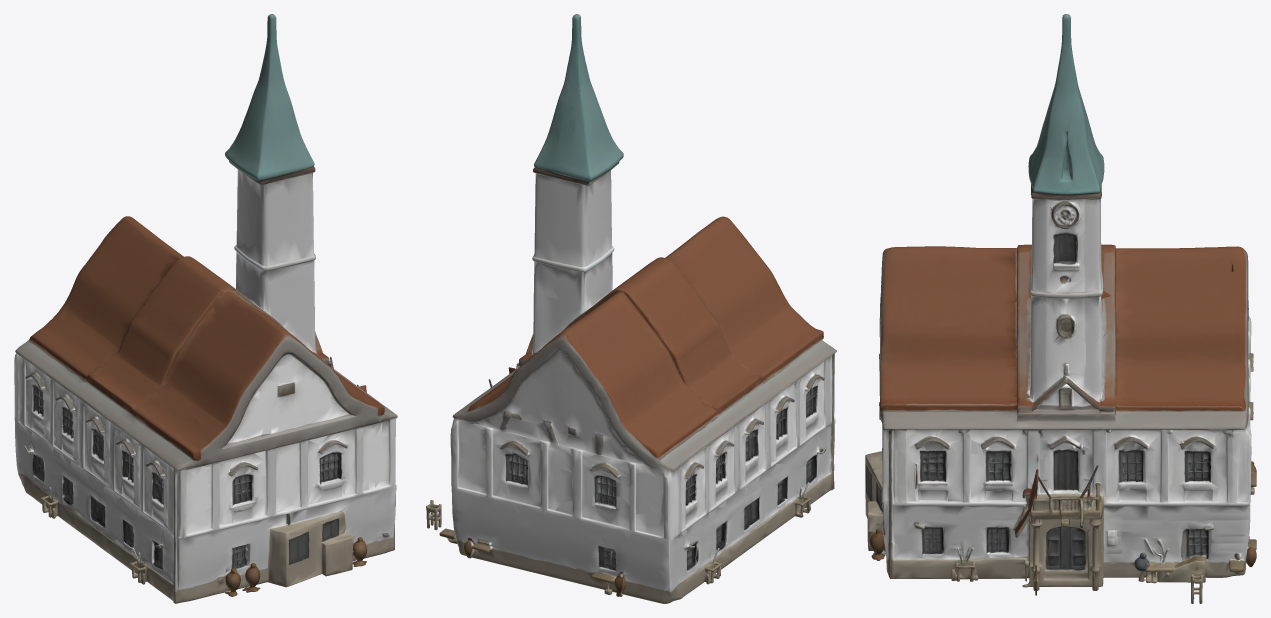
Rendered from vjecnica_60k.glb.
3 views of the same model, side by side, from view 1: azimuth 30°, elevation 25°; view 2: azimuth 150°, elevation 25°; view 3: azimuth 270°, elevation 25° (orthographic). The views are drawn at different scales.
Visible parts, largest first — view 1: Mesh_0; view 2: Mesh_0; view 3: Mesh_0.
Boxes of the visible parts, left/top/right/bottom form: Mesh_0: left=14, top=14, right=397, bottom=603; Mesh_0: left=426, top=14, right=836, bottom=603; Mesh_0: left=865, top=14, right=1256, bottom=603.
Size of the model in its own units: 0.5921 by 1 by 0.6548.
1 material, 1 textured.
